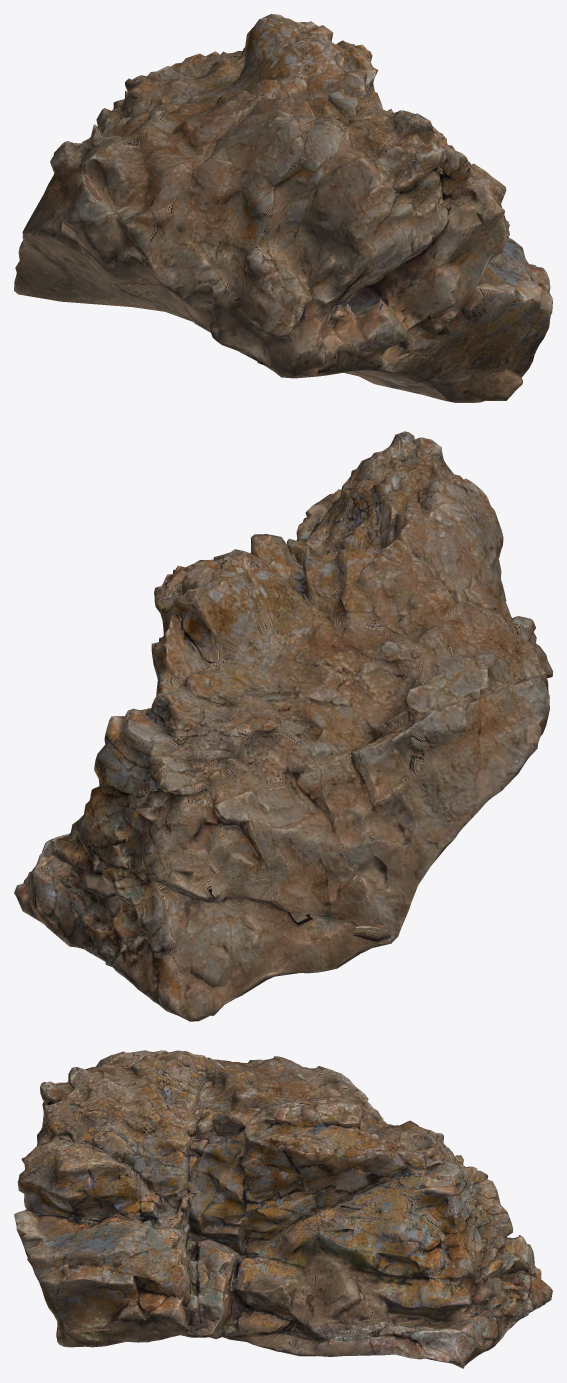
3 renders of one model, top to bottom at view 1: azimuth 30°, elevation 25°; view 2: azimuth 150°, elevation 25°; view 3: azimuth 270°, elevation 25°, orthographic. The views are drawn at different scales.
Parts seen in each view (by area): view 1: boulder_01_lod0; view 2: boulder_01_lod0; view 3: boulder_01_lod0.
Boxes of the visible parts, x1,y1,x2,y2 form: boulder_01_lod0: (14, 14, 552, 402); boulder_01_lod0: (14, 431, 552, 1021); boulder_01_lod0: (14, 1050, 552, 1368).
Bounding box in the file's own units: 1.27 × 1 × 1.83.
1 material, 1 textured.
